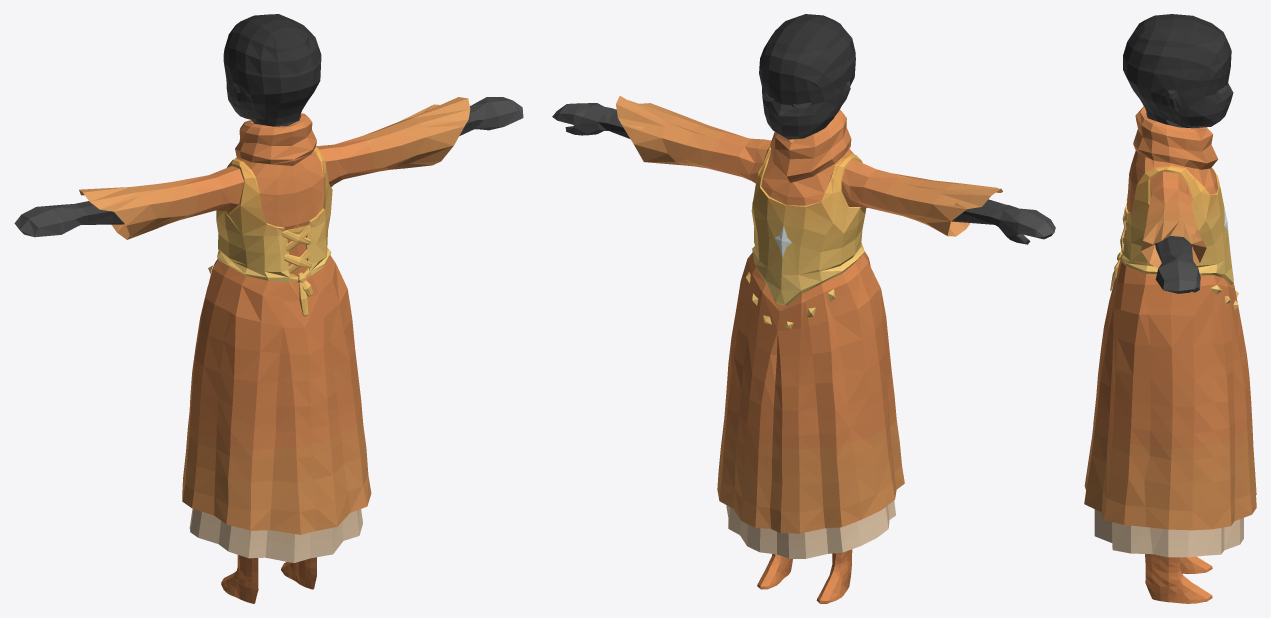
Rendered from CharSkyKid_Body_AP16OrangeLove.glb.
3 views of the same model, side by side, from view 1: azimuth 30°, elevation 25°; view 2: azimuth 150°, elevation 25°; view 3: azimuth 270°, elevation 25° (orthographic).
Visible parts, largest first — view 1: CharSkyKid_Body_AP16OrangeLove; view 2: CharSkyKid_Body_AP16OrangeLove; view 3: CharSkyKid_Body_AP16OrangeLove.
Part boxes in pixels (box(x1,y1,x2,y2)): CharSkyKid_Body_AP16OrangeLove: box(14, 14, 523, 603); CharSkyKid_Body_AP16OrangeLove: box(552, 14, 1055, 603); CharSkyKid_Body_AP16OrangeLove: box(1084, 14, 1256, 603).
Size of the model in its own units: 13.83 by 14.95 by 4.12.
1 material, 1 textured.
